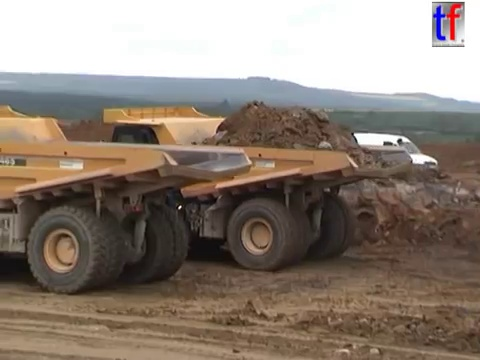truck: (72, 103, 414, 272), (1, 102, 254, 296)
